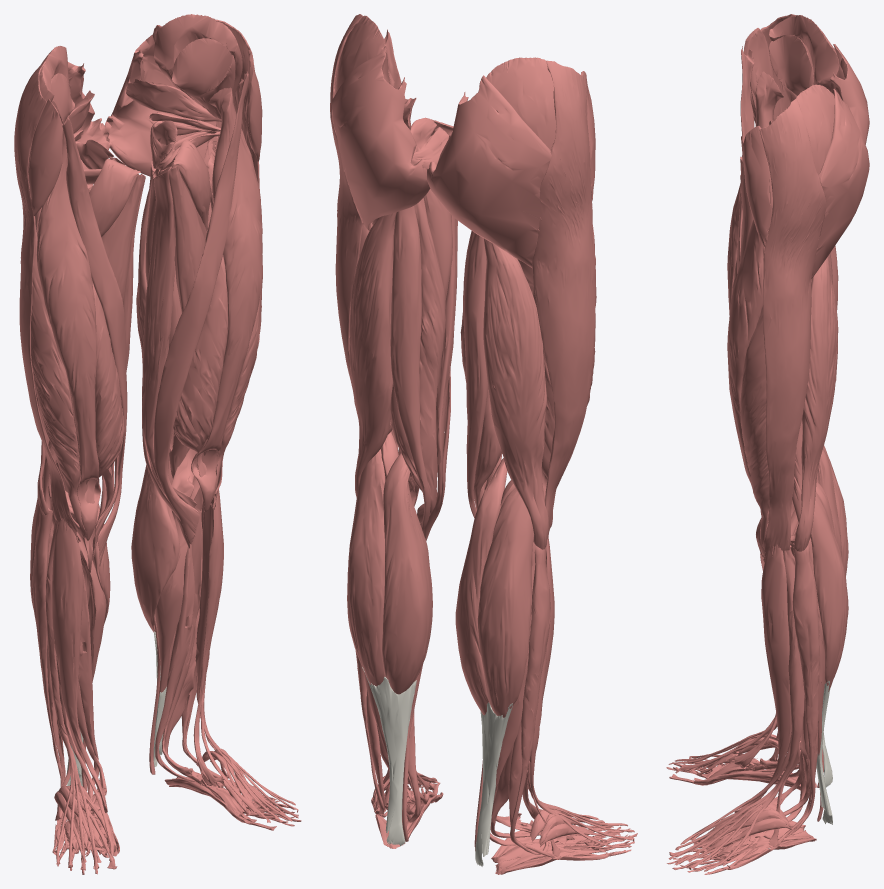
The model's file is muscles-membre-inf.hi.glb.
3 views of the same model, side by side, from view 1: azimuth 30°, elevation 25°; view 2: azimuth 150°, elevation 25°; view 3: azimuth 270°, elevation 25° (orthographic). The views are drawn at different scales.
Parts seen in each view (by area): view 1: FJ1433, FJ1433M, FJ1434M, FJ1421M, FJ1423, FJ1442, FJ1434, FJ1443M, FJ1439, FJ1397M, FJ1418M, FJ1439M (+39 smaller); view 2: FJ1423, FJ1418, FJ1395, FJ1418M, FJ1394, FJ1397M, FJ1395M, FJ1436M, FJ1394M, FJ1435M, FJ1397, FJ1436 (+25 smaller); view 3: FJ1423M, FJ1395M, FJ1418M, FJ1439M, FJ1433M, FJ1394M, FJ1442M, FJ1410M, FJ1406M, FJ1438M, FJ1419, FJ1419M (+22 smaller).
Boxes of the visible parts, x1=… form: FJ1433: x1=36, y1=132, x2=100, y2=540; FJ1433M: x1=191, y1=87, x2=262, y2=511; FJ1434M: x1=154, y1=71, x2=248, y2=544; FJ1421M: x1=142, y1=166, x2=196, y2=508; FJ1423: x1=14, y1=61, x2=80, y2=542; FJ1442: x1=31, y1=207, x2=85, y2=538; FJ1434: x1=60, y1=115, x2=127, y2=566; FJ1443M: x1=173, y1=186, x2=228, y2=477; FJ1439: x1=52, y1=518, x2=107, y2=812; FJ1397M: x1=131, y1=432, x2=180, y2=632; FJ1418M: x1=104, y1=25, x2=218, y2=187; FJ1439M: x1=193, y1=472, x2=223, y2=786; FJ1423: x1=532, y1=60, x2=595, y2=538; FJ1418: x1=427, y1=75, x2=551, y2=268; FJ1395: x1=483, y1=238, x2=548, y2=549; FJ1418M: x1=331, y1=51, x2=430, y2=230; FJ1394: x1=477, y1=488, x2=534, y2=717; FJ1397M: x1=382, y1=453, x2=432, y2=694; FJ1395M: x1=349, y1=212, x2=396, y2=497; FJ1436M: x1=390, y1=205, x2=430, y2=530; FJ1394M: x1=347, y1=449, x2=385, y2=686; FJ1435M: x1=390, y1=197, x2=445, y2=523; FJ1397: x1=455, y1=458, x2=507, y2=715; FJ1436: x1=463, y1=232, x2=488, y2=518; FJ1423M: x1=759, y1=98, x2=826, y2=562; FJ1395M: x1=793, y1=255, x2=838, y2=551; FJ1418M: x1=811, y1=89, x2=869, y2=278; FJ1439M: x1=731, y1=544, x2=791, y2=817; FJ1433M: x1=727, y1=219, x2=764, y2=557; FJ1394M: x1=810, y1=492, x2=848, y2=691; FJ1442M: x1=740, y1=305, x2=769, y2=556; FJ1410M: x1=748, y1=543, x2=819, y2=839; FJ1406M: x1=668, y1=545, x2=804, y2=871; FJ1438M: x1=743, y1=126, x2=772, y2=247; FJ1419: x1=769, y1=15, x2=839, y2=94; FJ1419M: x1=769, y1=84, x2=834, y2=175.
Bounding box in the file's own units: 0.3321 × 1.02 × 0.2463.
